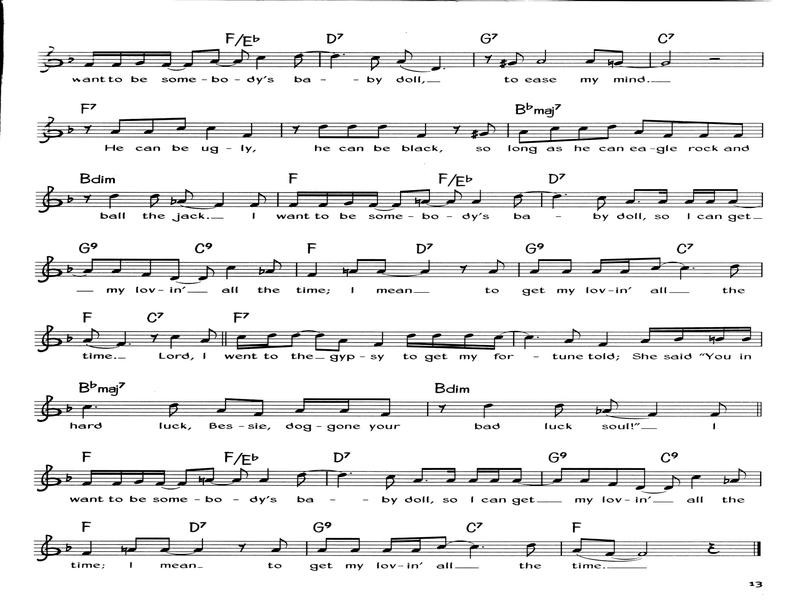B: (638, 540, 649, 557), (536, 49, 547, 65), (662, 50, 672, 66)
Bem: (258, 265, 265, 276), (65, 473, 72, 484), (65, 403, 73, 412), (170, 195, 177, 205), (66, 264, 73, 274), (66, 333, 73, 343), (595, 405, 602, 415), (65, 543, 72, 553), (68, 124, 74, 135), (723, 474, 729, 485), (67, 194, 73, 204), (69, 55, 75, 64)
C: (83, 327, 101, 344), (487, 258, 505, 275), (663, 119, 679, 138), (608, 467, 623, 487), (697, 121, 714, 138), (178, 188, 195, 205), (446, 188, 463, 205), (711, 401, 728, 418), (143, 116, 159, 134), (249, 192, 267, 208), (183, 49, 198, 68), (634, 118, 650, 135), (544, 126, 560, 143), (266, 258, 283, 274), (284, 332, 301, 348), (564, 328, 581, 344), (603, 398, 619, 415), (731, 467, 747, 484), (665, 474, 681, 491), (232, 467, 249, 483), (141, 258, 155, 277), (392, 190, 406, 209), (178, 467, 192, 486), (169, 258, 180, 282), (234, 48, 250, 64), (573, 126, 589, 142), (111, 258, 127, 274), (201, 328, 217, 344), (396, 49, 413, 64), (509, 51, 526, 66), (572, 537, 587, 554), (635, 467, 646, 490), (552, 467, 566, 485), (603, 124, 618, 140), (480, 121, 496, 136), (111, 118, 126, 134), (199, 265, 215, 280), (83, 258, 99, 273), (332, 337, 348, 352), (531, 258, 546, 274), (579, 467, 595, 482), (272, 538, 288, 553), (318, 537, 333, 553), (413, 467, 426, 485), (217, 397, 231, 413), (587, 48, 600, 65), (373, 124, 387, 139), (605, 539, 616, 558), (380, 398, 391, 417), (369, 54, 381, 71), (596, 195, 608, 212), (626, 188, 638, 205), (728, 188, 740, 205), (159, 536, 171, 553), (253, 399, 264, 417), (344, 124, 358, 138), (733, 122, 745, 138), (149, 193, 161, 209), (351, 258, 363, 274), (728, 263, 740, 279), (129, 537, 141, 553), (376, 258, 387, 275), (168, 401, 179, 418), (315, 333, 324, 353), (512, 193, 524, 208), (205, 466, 215, 484), (518, 129, 529, 145), (176, 116, 187, 132), (651, 255, 662, 271), (553, 403, 564, 419), (526, 542, 537, 558), (385, 474, 396, 490), (296, 472, 307, 488), (350, 537, 361, 553), (210, 48, 220, 65), (512, 467, 523, 482), (437, 535, 448, 550), (293, 53, 303, 69), (563, 258, 573, 274), (318, 124, 329, 138), (615, 50, 624, 66), (422, 188, 431, 204)
CS: (36, 324, 63, 354), (35, 533, 62, 562), (36, 255, 62, 284), (39, 44, 64, 74), (36, 464, 62, 492), (37, 185, 62, 214), (37, 394, 62, 423), (39, 116, 63, 144)
N: (373, 331, 385, 349), (597, 330, 609, 348), (307, 262, 319, 279), (420, 258, 432, 275), (647, 401, 659, 418), (81, 404, 92, 422), (224, 264, 236, 280), (690, 474, 702, 490), (255, 54, 266, 71), (551, 193, 562, 210), (523, 333, 534, 350), (205, 125, 217, 140), (108, 194, 120, 209), (329, 54, 340, 70), (679, 266, 690, 282), (483, 403, 494, 419), (82, 540, 93, 556), (417, 122, 427, 139), (170, 334, 181, 349), (468, 544, 479, 559), (259, 468, 270, 483), (432, 55, 442, 71), (215, 192, 225, 208), (117, 331, 127, 347), (472, 189, 482, 205), (337, 472, 347, 488), (194, 537, 204, 553), (244, 122, 253, 139)
P: (127, 342, 133, 347), (424, 479, 429, 483), (349, 472, 354, 476), (342, 53, 346, 57), (637, 200, 641, 204), (564, 193, 568, 197), (443, 67, 447, 70), (536, 336, 540, 339), (95, 406, 98, 409), (482, 546, 485, 548), (693, 267, 696, 269)
SB: (706, 58, 724, 61)
SC: (486, 333, 503, 351), (289, 190, 305, 208), (456, 334, 474, 350), (260, 333, 276, 350), (469, 467, 485, 483), (295, 397, 310, 414), (685, 187, 699, 205), (82, 469, 96, 487), (85, 51, 100, 67), (428, 333, 444, 348), (593, 258, 608, 274), (673, 325, 688, 341), (382, 537, 397, 553), (112, 50, 126, 67), (319, 190, 333, 207), (367, 191, 379, 209), (135, 51, 150, 65), (642, 327, 656, 342), (112, 470, 126, 485), (161, 50, 172, 69), (657, 189, 669, 206), (620, 257, 632, 274), (705, 188, 717, 205), (236, 333, 247, 351), (134, 469, 148, 483), (344, 190, 356, 206), (490, 467, 502, 483), (446, 467, 457, 484), (412, 536, 423, 553), (340, 397, 351, 414), (155, 469, 166, 486), (716, 326, 727, 341), (406, 333, 418, 346), (742, 326, 752, 341)
SOS: (499, 58, 508, 69), (471, 129, 479, 139)
